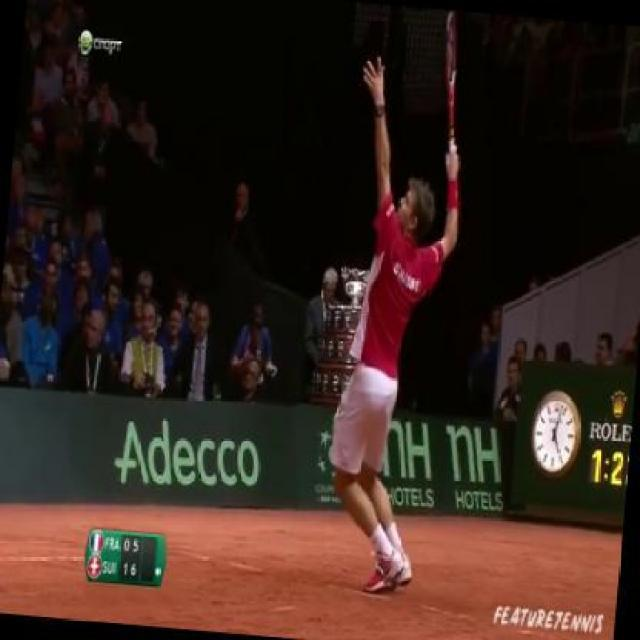non-fight: (312, 54, 474, 592)
